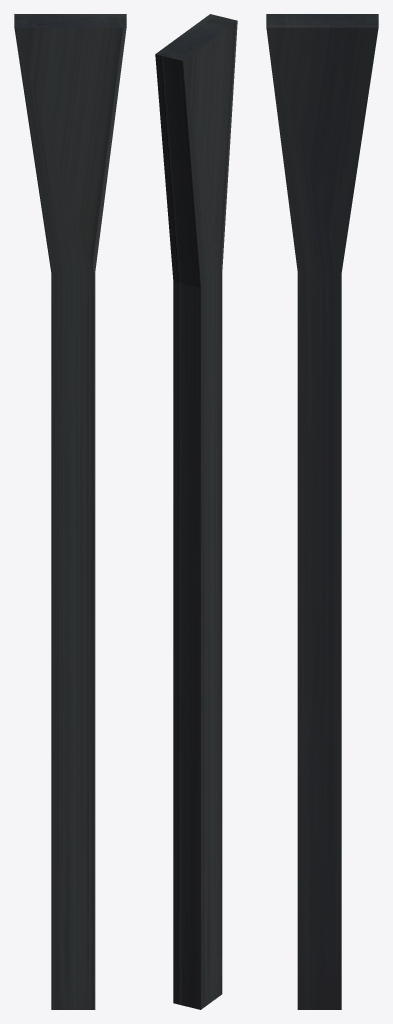
The model's file is BaseColumn_2.gltf.
The picture shows the model from 3 angles, left to right: view 1: azimuth 90°, elevation 25°; view 2: azimuth 150°, elevation 25°; view 3: azimuth 270°, elevation 25°; orthographic projection. The views are drawn at different scales.
Visible parts, largest first — view 1: BaseColumn_2; view 2: BaseColumn_2; view 3: BaseColumn_2.
Part boxes in pixels (x1,y1,x2,y2): BaseColumn_2: [14, 14, 126, 1009]; BaseColumn_2: [155, 14, 237, 1009]; BaseColumn_2: [266, 14, 378, 1009].
Bounding box in the file's own units: 0.2159 × 7.22 × 0.7478.
Materials: 1 (1 with a texture image).
